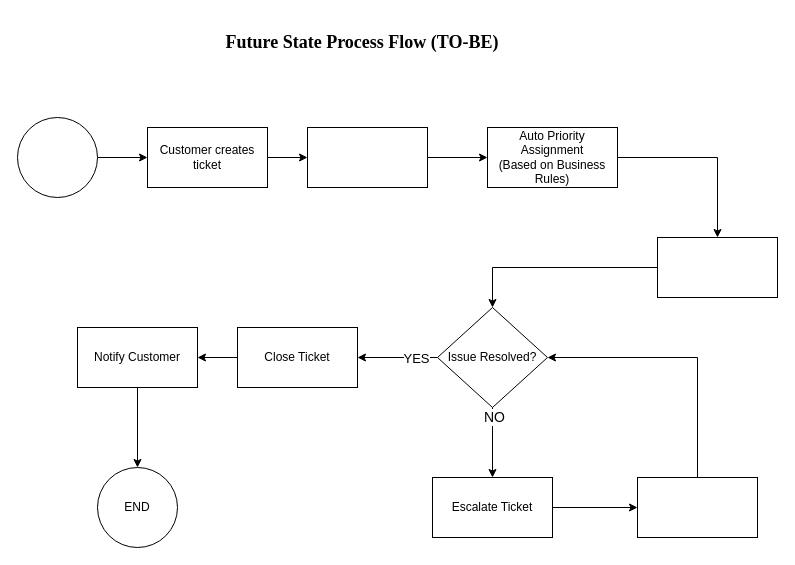
Image size: 795x565. Some labels were removed from this diagram. Here are the shapes that lost their labels. From the top down, the centre of each, then its label:
pixel 57 157: START
pixel 367 157: System Generates Ticket ID
pixel 717 267: Assign Ticket to Agent
pixel 697 507: Assign Senior Agent
